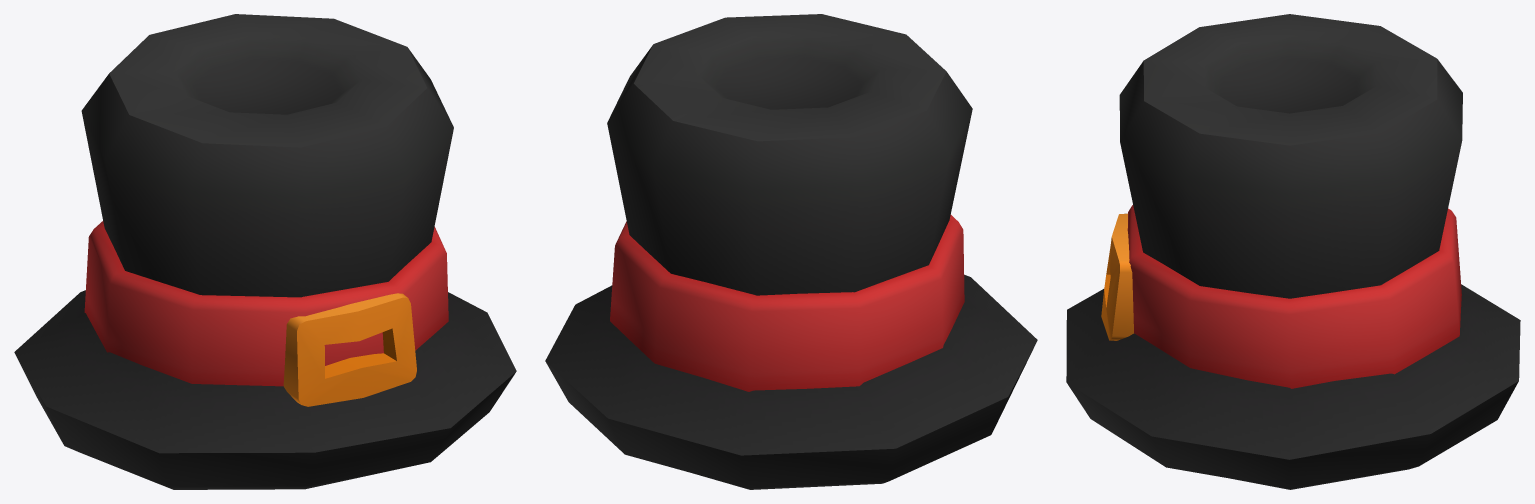
File: TopHat.fbx
3 views of the same model, side by side, from view 1: azimuth 30°, elevation 25°; view 2: azimuth 150°, elevation 25°; view 3: azimuth 270°, elevation 25° (orthographic). The views are drawn at different scales.
Parts seen in each view (by area): view 1: TopHat; view 2: TopHat; view 3: TopHat.
Part boxes in pixels (left/top/right/bottom): TopHat: left=14, top=14, right=516, bottom=489; TopHat: left=545, top=14, right=1037, bottom=489; TopHat: left=1066, top=14, right=1520, bottom=489.
Bounding box in the file's own units: 0.4805 × 0.3546 × 0.4416.
